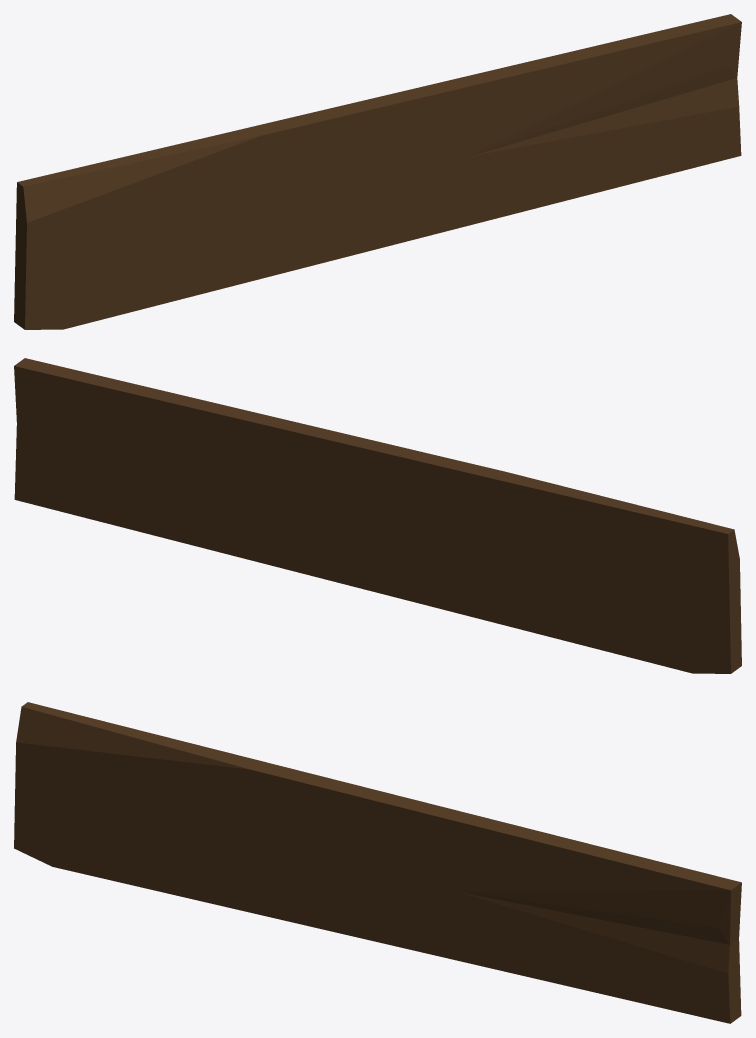
Rendered from Plank_01.fbx.
3 views of the same model, one above another, from view 1: azimuth 30°, elevation 25°; view 2: azimuth 150°, elevation 25°; view 3: azimuth 330°, elevation 25° (orthographic).
Parts seen in each view (by area): view 1: Plank_01; view 2: Plank_01; view 3: Plank_01.
Boxes of the visible parts, x1,y1,x2,y2 form: Plank_01: [14, 14, 741, 329]; Plank_01: [14, 358, 741, 673]; Plank_01: [14, 702, 741, 1023].
Size of the model in its own units: 2.04 by 0.4026 by 0.0538.
